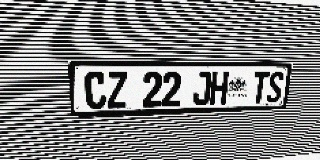2: (143, 72, 163, 107), (162, 72, 182, 107)
C: (84, 72, 107, 109)
H: (210, 72, 229, 105)
J: (192, 72, 212, 105)
S: (266, 72, 284, 103)
T: (251, 72, 270, 103)
Z: (107, 72, 127, 109)
